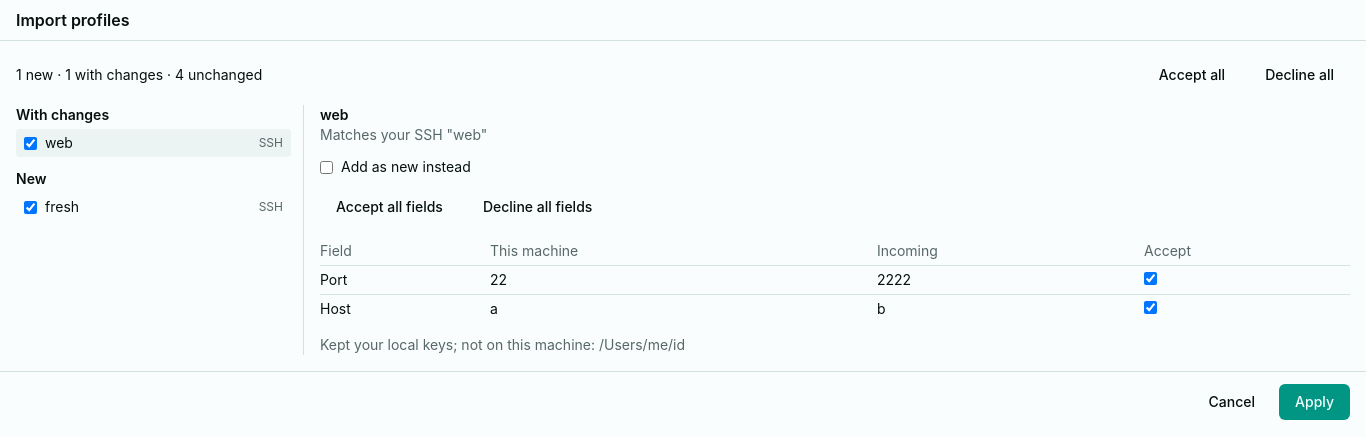
it: field toggles, apply payload, reload and summary
Expected: the list item "Kept your local keys; not on this machine: /Users/me/id" is shown, x1=320 y1=336 x2=685 y2=353
Click the checkbox named "Accept Host". click: (1150, 308)
box: x1=1144 y1=301 x2=1157 y2=314
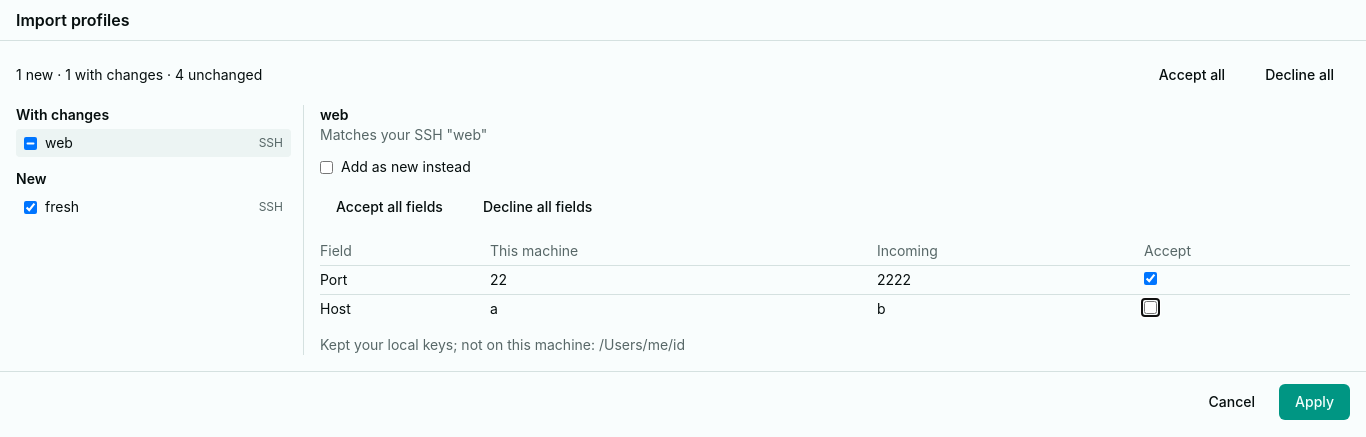
Click the button "Apply". click: (1315, 402)
box: x1=1279 y1=384 x2=1350 y2=420
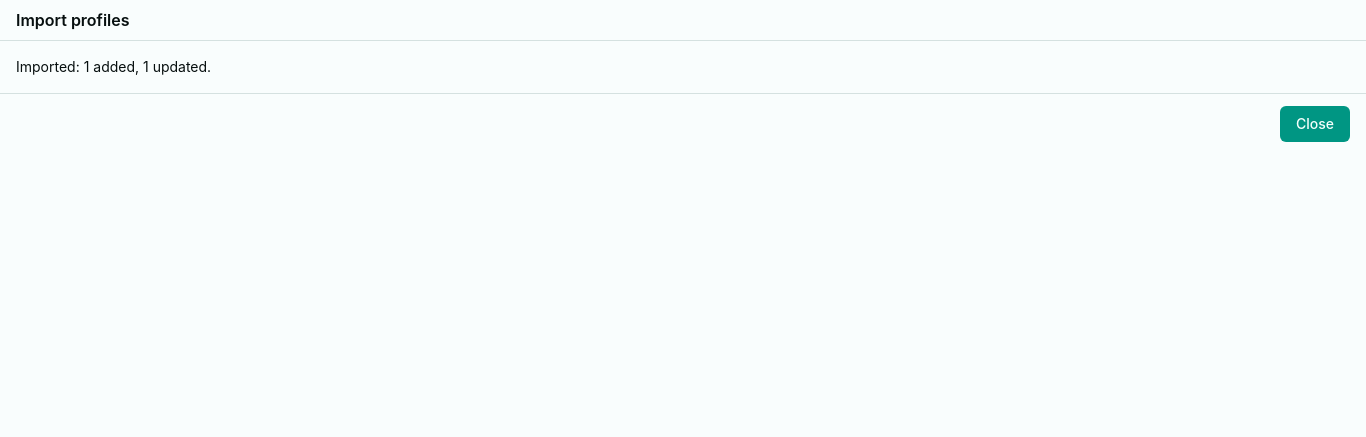
Expected: the text "Imported: 1 added, 1 updated." is shown, x1=16 y1=58 x2=211 y2=75
